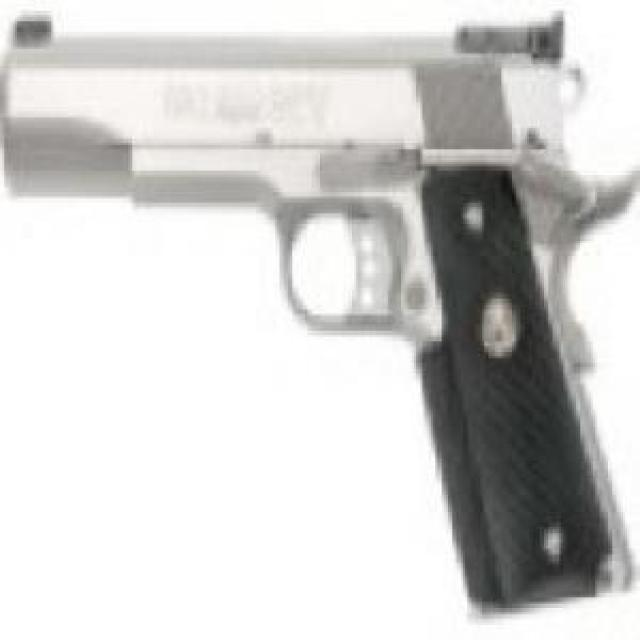pistol: (9, 21, 628, 608)
